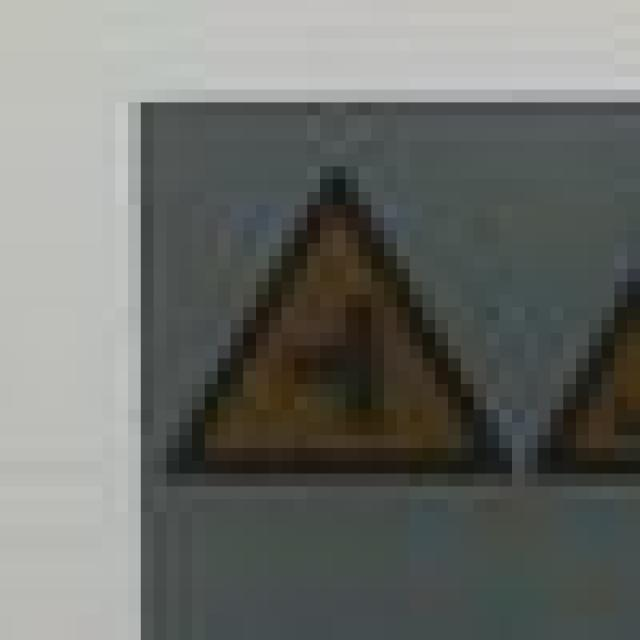side road left: (169, 160, 503, 485)
